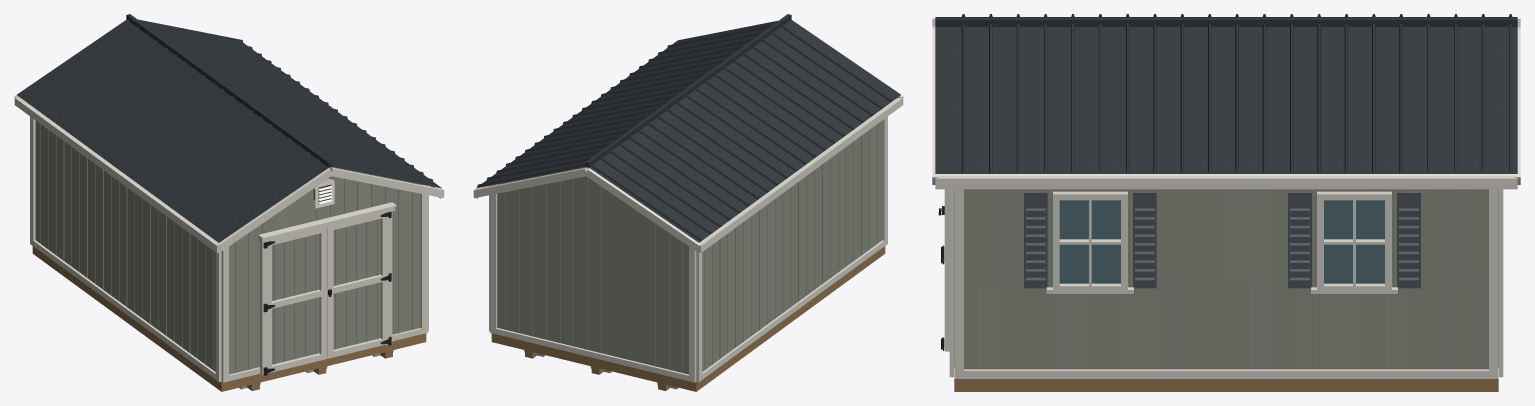
Rendered from 02-classic-utility-shutters.glb.
3 views of the same model, side by side, from view 1: azimuth 30°, elevation 25°; view 2: azimuth 150°, elevation 25°; view 3: azimuth 270°, elevation 25° (orthographic). The views are drawn at different scales.
Parts seen in each view (by area): view 1: Main roof, left wall, front wall double, front wall, Floor platform and skids, front wall vent; view 2: Main roof, rear wall, left wall, Floor platform and skids; view 3: Main roof, right wall, right wall window, Louvered window shutters, Floor platform and skids, front wall, rear wall, front wall double.
Part boxes in pixels (box(x1,y1,x2,y2)): Main roof: box(14, 14, 444, 252); left wall: box(30, 99, 221, 382); front wall double: box(258, 202, 396, 375); front wall: box(221, 167, 427, 382); Floor platform and skids: box(32, 246, 426, 391); front wall vent: box(315, 179, 334, 208); Main roof: box(473, 14, 903, 252); rear wall: box(490, 167, 696, 382); left wall: box(696, 99, 887, 382); Floor platform and skids: box(491, 246, 885, 391); Main roof: box(932, 14, 1520, 189); right wall: box(954, 161, 1498, 378); right wall window: box(1046, 191, 1397, 293); Louvered window shutters: box(1024, 193, 1420, 288); Floor platform and skids: box(954, 379, 1498, 391); front wall: box(949, 33, 954, 377); rear wall: box(1498, 33, 1503, 377); front wall double: box(938, 189, 949, 351).
Bounding box in the file's own units: 3.39 × 3.1 × 5.27.
